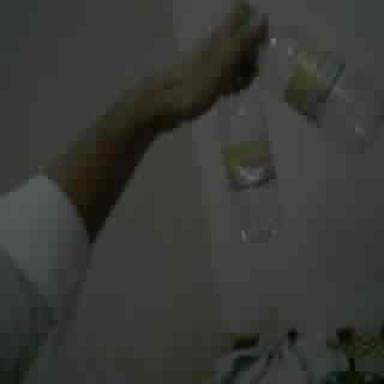bottle: (217, 29, 383, 240)
